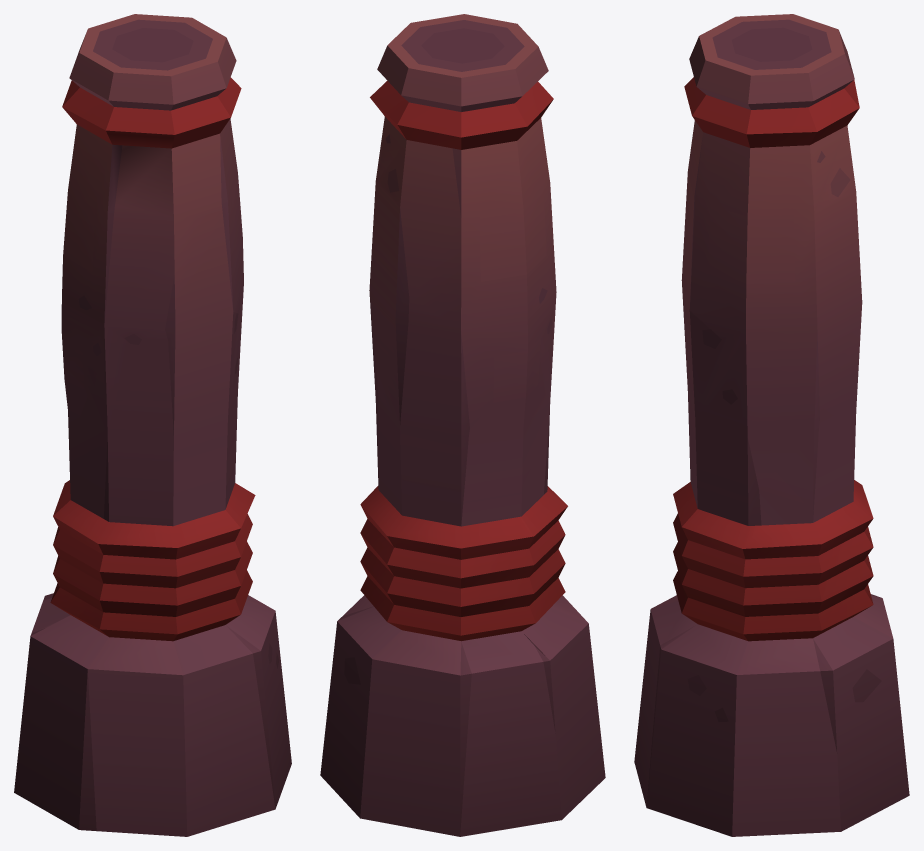
The model's file is post_1.glb.
3 views of the same model, side by side, from view 1: azimuth 30°, elevation 25°; view 2: azimuth 150°, elevation 25°; view 3: azimuth 270°, elevation 25° (orthographic).
Visible parts, largest first — view 1: post_1; view 2: post_1; view 3: post_1.
Part boxes in pixels (bbox=[...]): post_1: bbox=[14, 14, 291, 836]; post_1: bbox=[320, 14, 605, 836]; post_1: bbox=[634, 14, 909, 836].
Bounding box in the file's own units: 0.807 × 2.37 × 0.807.
1 material, 1 textured.
